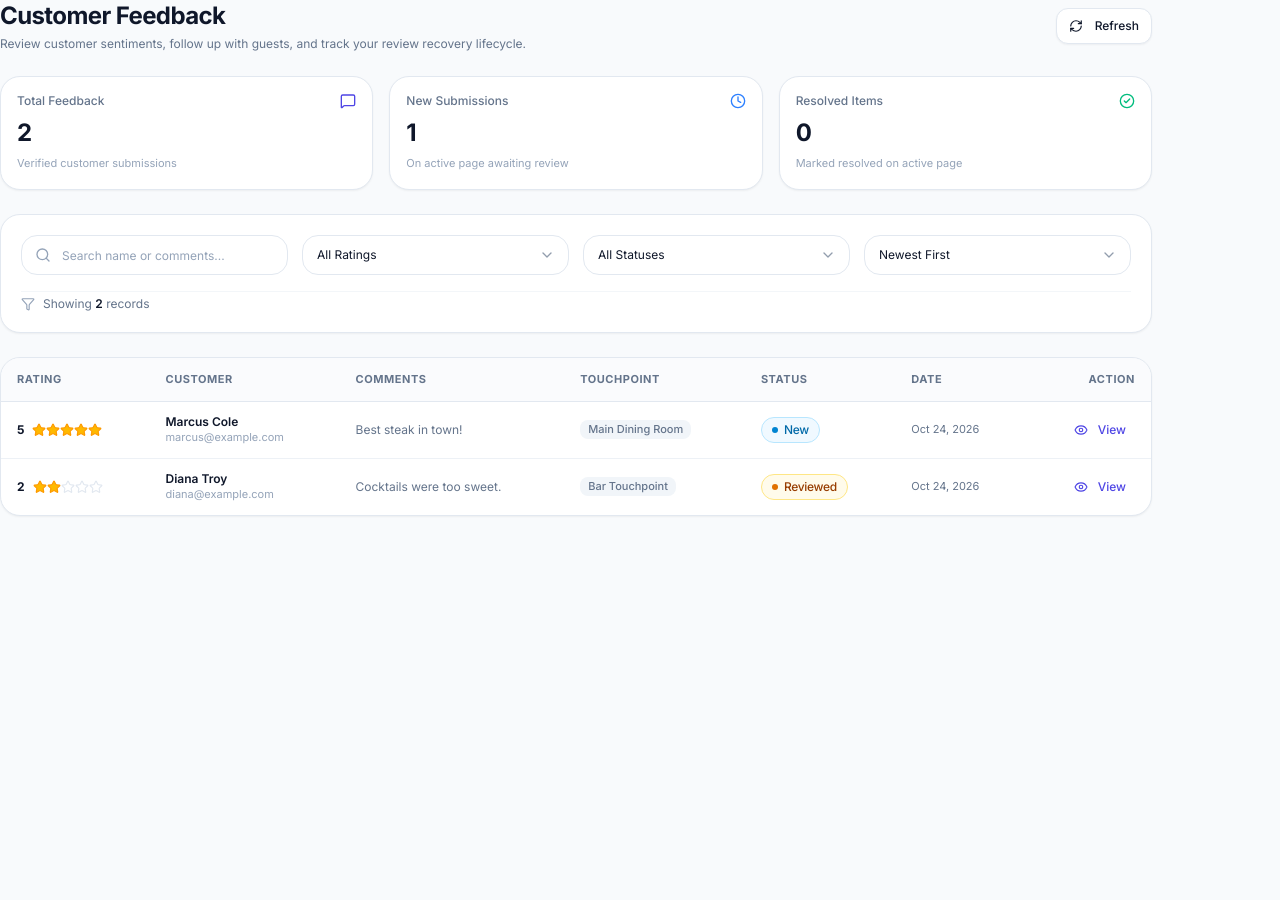
FeedbackInbox Component › opens detail drawer when a feedback row is clicked
What coordinates should you click on to do the following:
click the text "Marcus Cole"
I would click on:
 (202, 422)
Its box is [166,414,238,429].
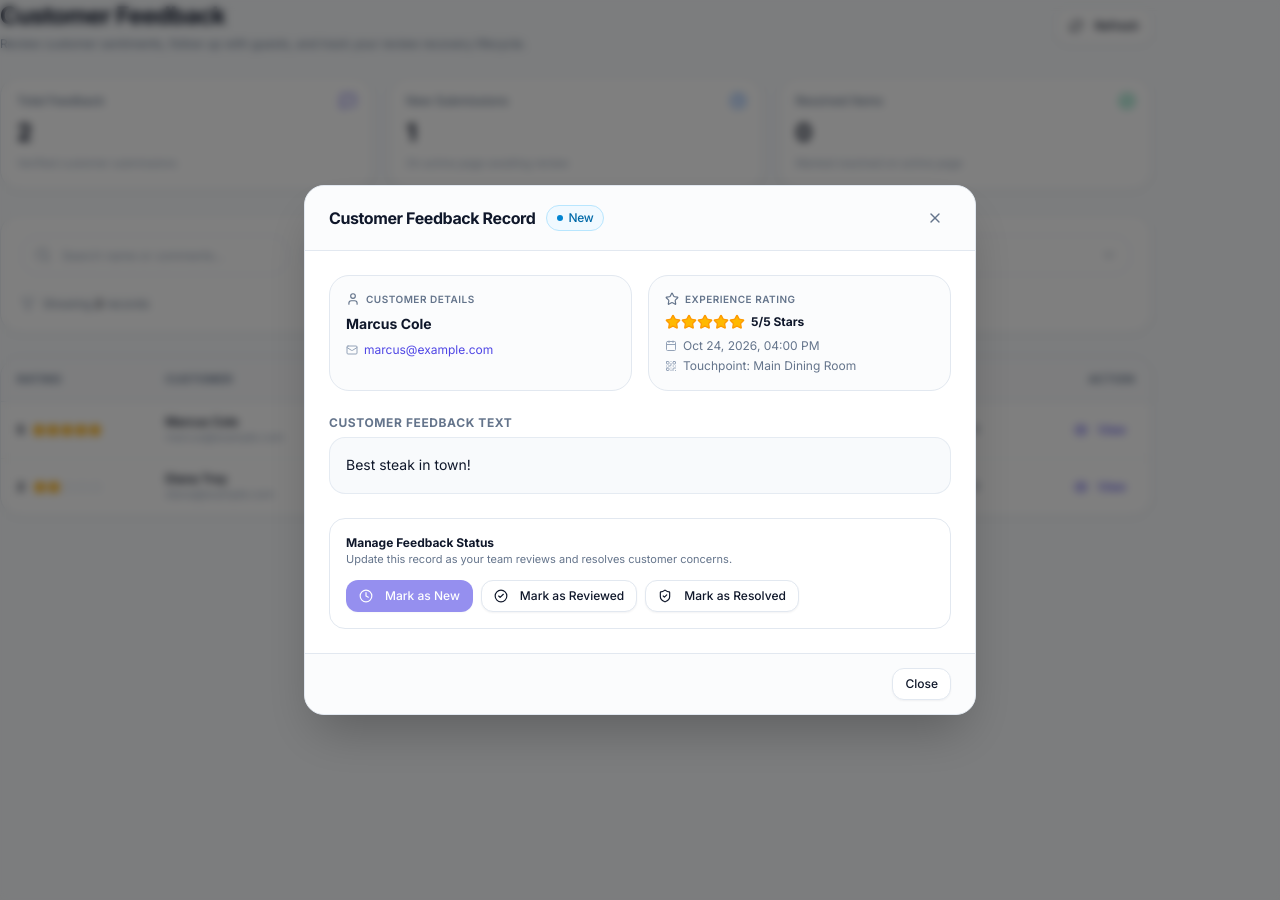
expect the dialog is shown: met
expect the heading "Customer Feedback Record" is shown: met, box [329,206,536,230]
